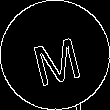M_N: (26, 25, 84, 85)
